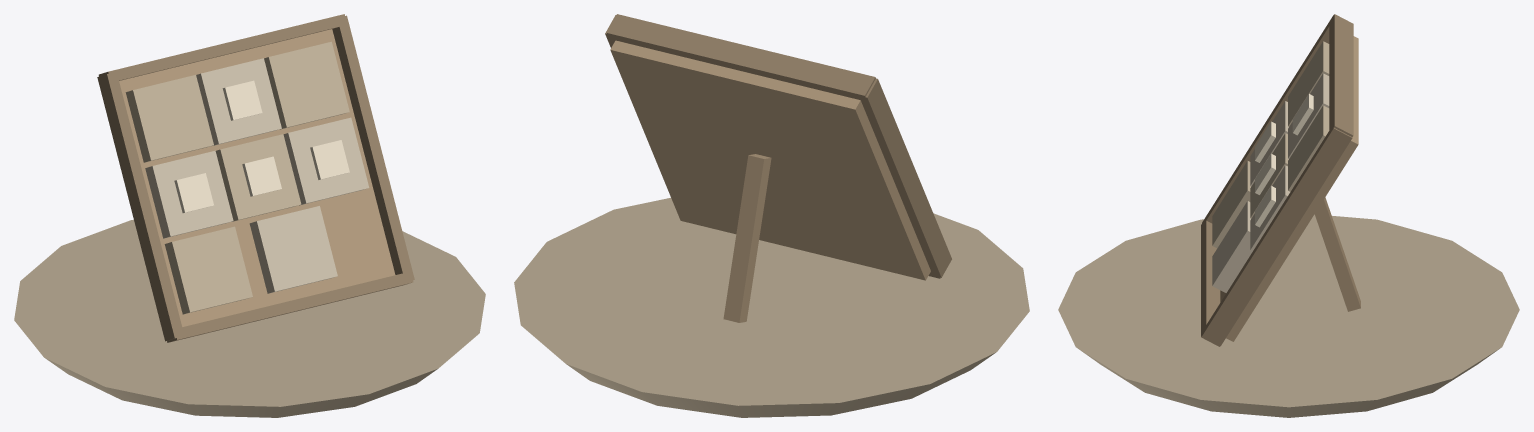
The model's file is party_mg29_slide_tray.glb.
3 renders of one model, left to right at view 1: azimuth 30°, elevation 25°; view 2: azimuth 150°, elevation 25°; view 3: azimuth 270°, elevation 25°, orthographic. The views are drawn at different scales.
Visible parts, largest first — view 1: _MeshInstance3D_148, _MeshInstance3D_150, _MeshInstance3D_151, _MeshInstance3D_155, _MeshInstance3D_165, _MeshInstance3D_166, _MeshInstance3D_158, _MeshInstance3D_153, _MeshInstance3D_159, _MeshInstance3D_161, _MeshInstance3D_163, _MeshInstance3D_156 (+6 smaller); view 2: _MeshInstance3D_148, _MeshInstance3D_150, _MeshInstance3D_152, _MeshInstance3D_151, _MeshInstance3D_167; view 3: _MeshInstance3D_148, _MeshInstance3D_153, _MeshInstance3D_152, _MeshInstance3D_150, _MeshInstance3D_166, _MeshInstance3D_167, _MeshInstance3D_165, _MeshInstance3D_154, _MeshInstance3D_158, _MeshInstance3D_151, _MeshInstance3D_155, _MeshInstance3D_156 (+7 smaller).
Boxes of the visible parts, box(x1,y1,x2,y2) form: _MeshInstance3D_148: box(14, 219, 485, 417); _MeshInstance3D_150: box(119, 29, 395, 326); _MeshInstance3D_151: box(97, 72, 183, 341); _MeshInstance3D_155: box(125, 75, 213, 162); _MeshInstance3D_165: box(164, 226, 252, 314); _MeshInstance3D_166: box(249, 206, 337, 293); _MeshInstance3D_158: box(264, 41, 349, 129); _MeshInstance3D_153: box(332, 15, 414, 281); _MeshInstance3D_159: box(145, 150, 233, 238); _MeshInstance3D_161: box(215, 134, 301, 221); _MeshInstance3D_163: box(283, 117, 369, 205); _MeshInstance3D_156: box(196, 58, 281, 145); _MeshInstance3D_148: box(514, 197, 1029, 417); _MeshInstance3D_150: box(610, 40, 930, 280); _MeshInstance3D_152: box(606, 14, 875, 102); _MeshInstance3D_151: box(857, 78, 951, 277); _MeshInstance3D_167: box(723, 154, 771, 322); _MeshInstance3D_148: box(1058, 214, 1519, 417); _MeshInstance3D_153: box(1202, 127, 1352, 346); _MeshInstance3D_152: box(1329, 14, 1353, 136); _MeshInstance3D_150: box(1220, 36, 1358, 341); _MeshInstance3D_166: box(1212, 201, 1252, 292); _MeshInstance3D_167: box(1314, 197, 1360, 311); _MeshInstance3D_165: box(1212, 160, 1250, 248); _MeshInstance3D_154: box(1201, 220, 1220, 346); _MeshInstance3D_158: box(1288, 105, 1329, 191); _MeshInstance3D_151: box(1202, 15, 1333, 225); _MeshInstance3D_155: box(1288, 41, 1329, 126); _MeshInstance3D_156: box(1288, 73, 1329, 158).
Size of the model in its own units: 3.4 by 2.13 by 3.4.
